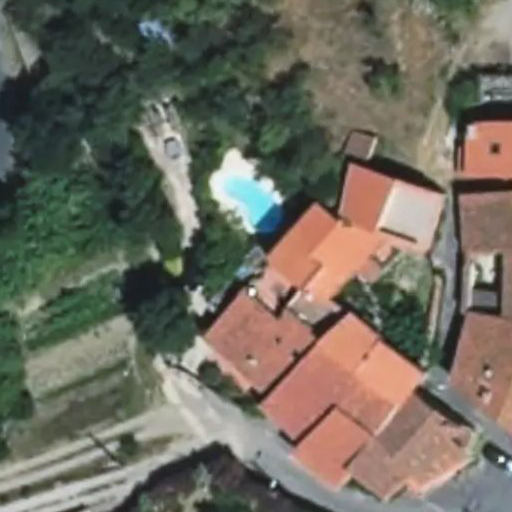pool: (236, 235, 277, 244)
